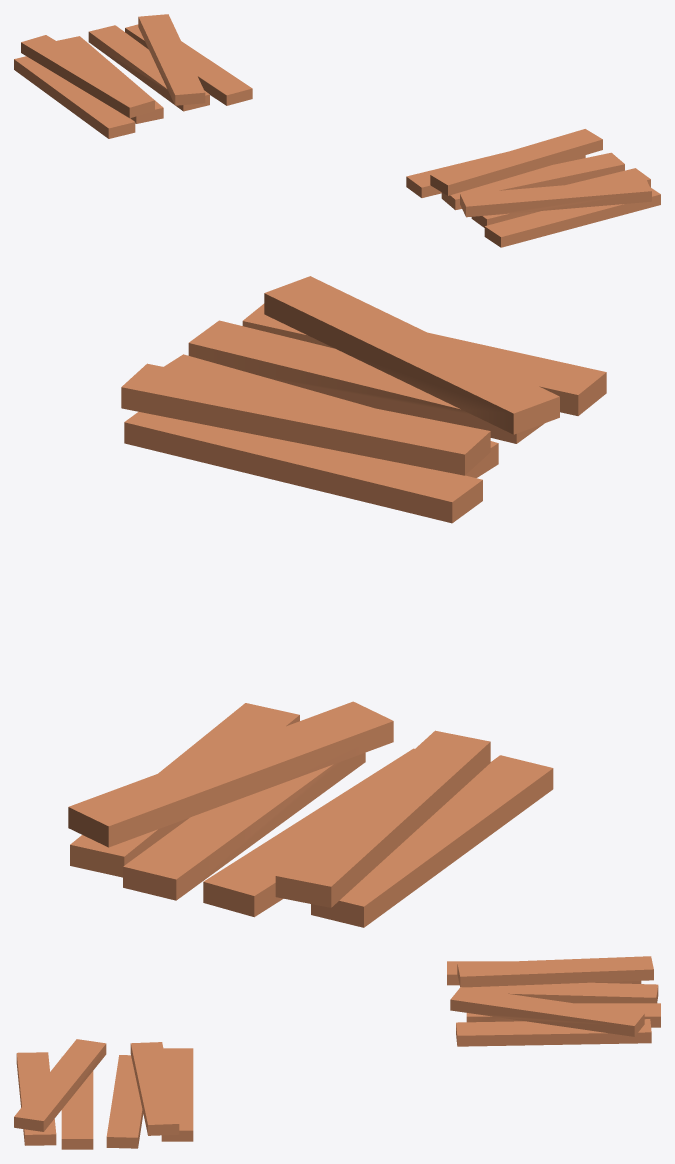
File: Maison1_plan.fbx
The picture shows the model from 3 angles, top to bottom: view 1: azimuth 30°, elevation 25°; view 2: azimuth 150°, elevation 25°; view 3: azimuth 270°, elevation 25°; orthographic projection. The views are drawn at different scales.
Visible parts, largest first — view 1: debris_wood_18, debris_wood_15; view 2: debris_wood_18, debris_wood_15; view 3: debris_wood_15, debris_wood_18.
Boxes of the visible parts, bbox=[...] form: debris_wood_18: bbox=[406, 129, 660, 247]; debris_wood_15: bbox=[14, 14, 252, 138]; debris_wood_18: bbox=[121, 276, 606, 523]; debris_wood_15: bbox=[68, 701, 553, 927]; debris_wood_15: bbox=[447, 956, 660, 1046]; debris_wood_18: bbox=[14, 1039, 193, 1149].
Size of the model in its own units: 18.69 by 1.07 by 28.76.
